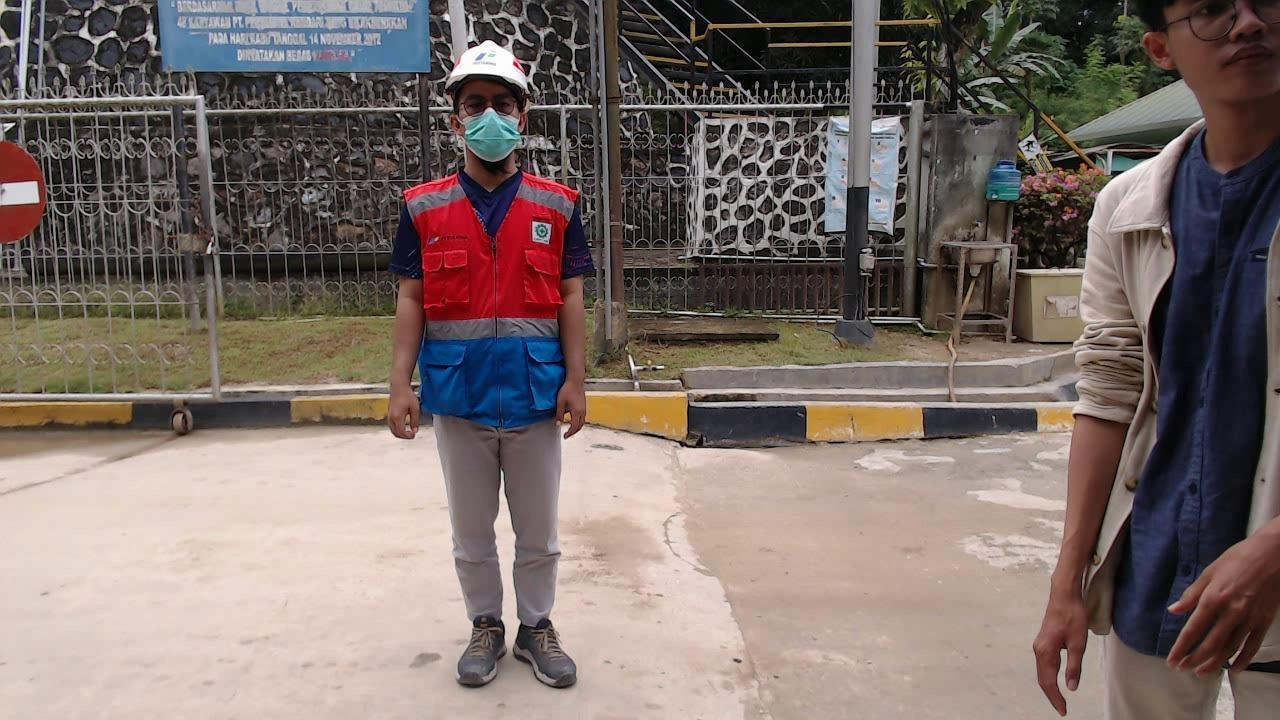helmet: (438, 33, 536, 98)
